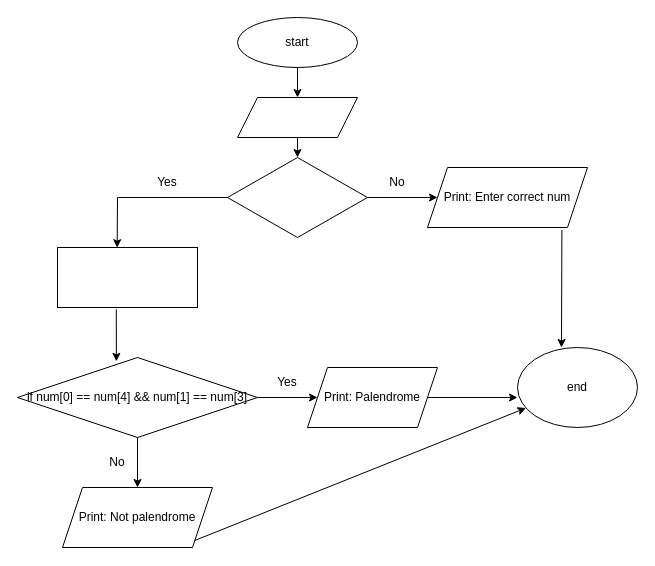
Some shapes in this 655 by 566 pixel diagram are drawn without their labels. The shapes that lost their labels are listed below. From the top down, each one's centre as x and y in pixels, then its label:
At point 297,117: "num".
At point 297,197: "if num.length == 5".
At point 127,277: "checkingNumber(num)".
